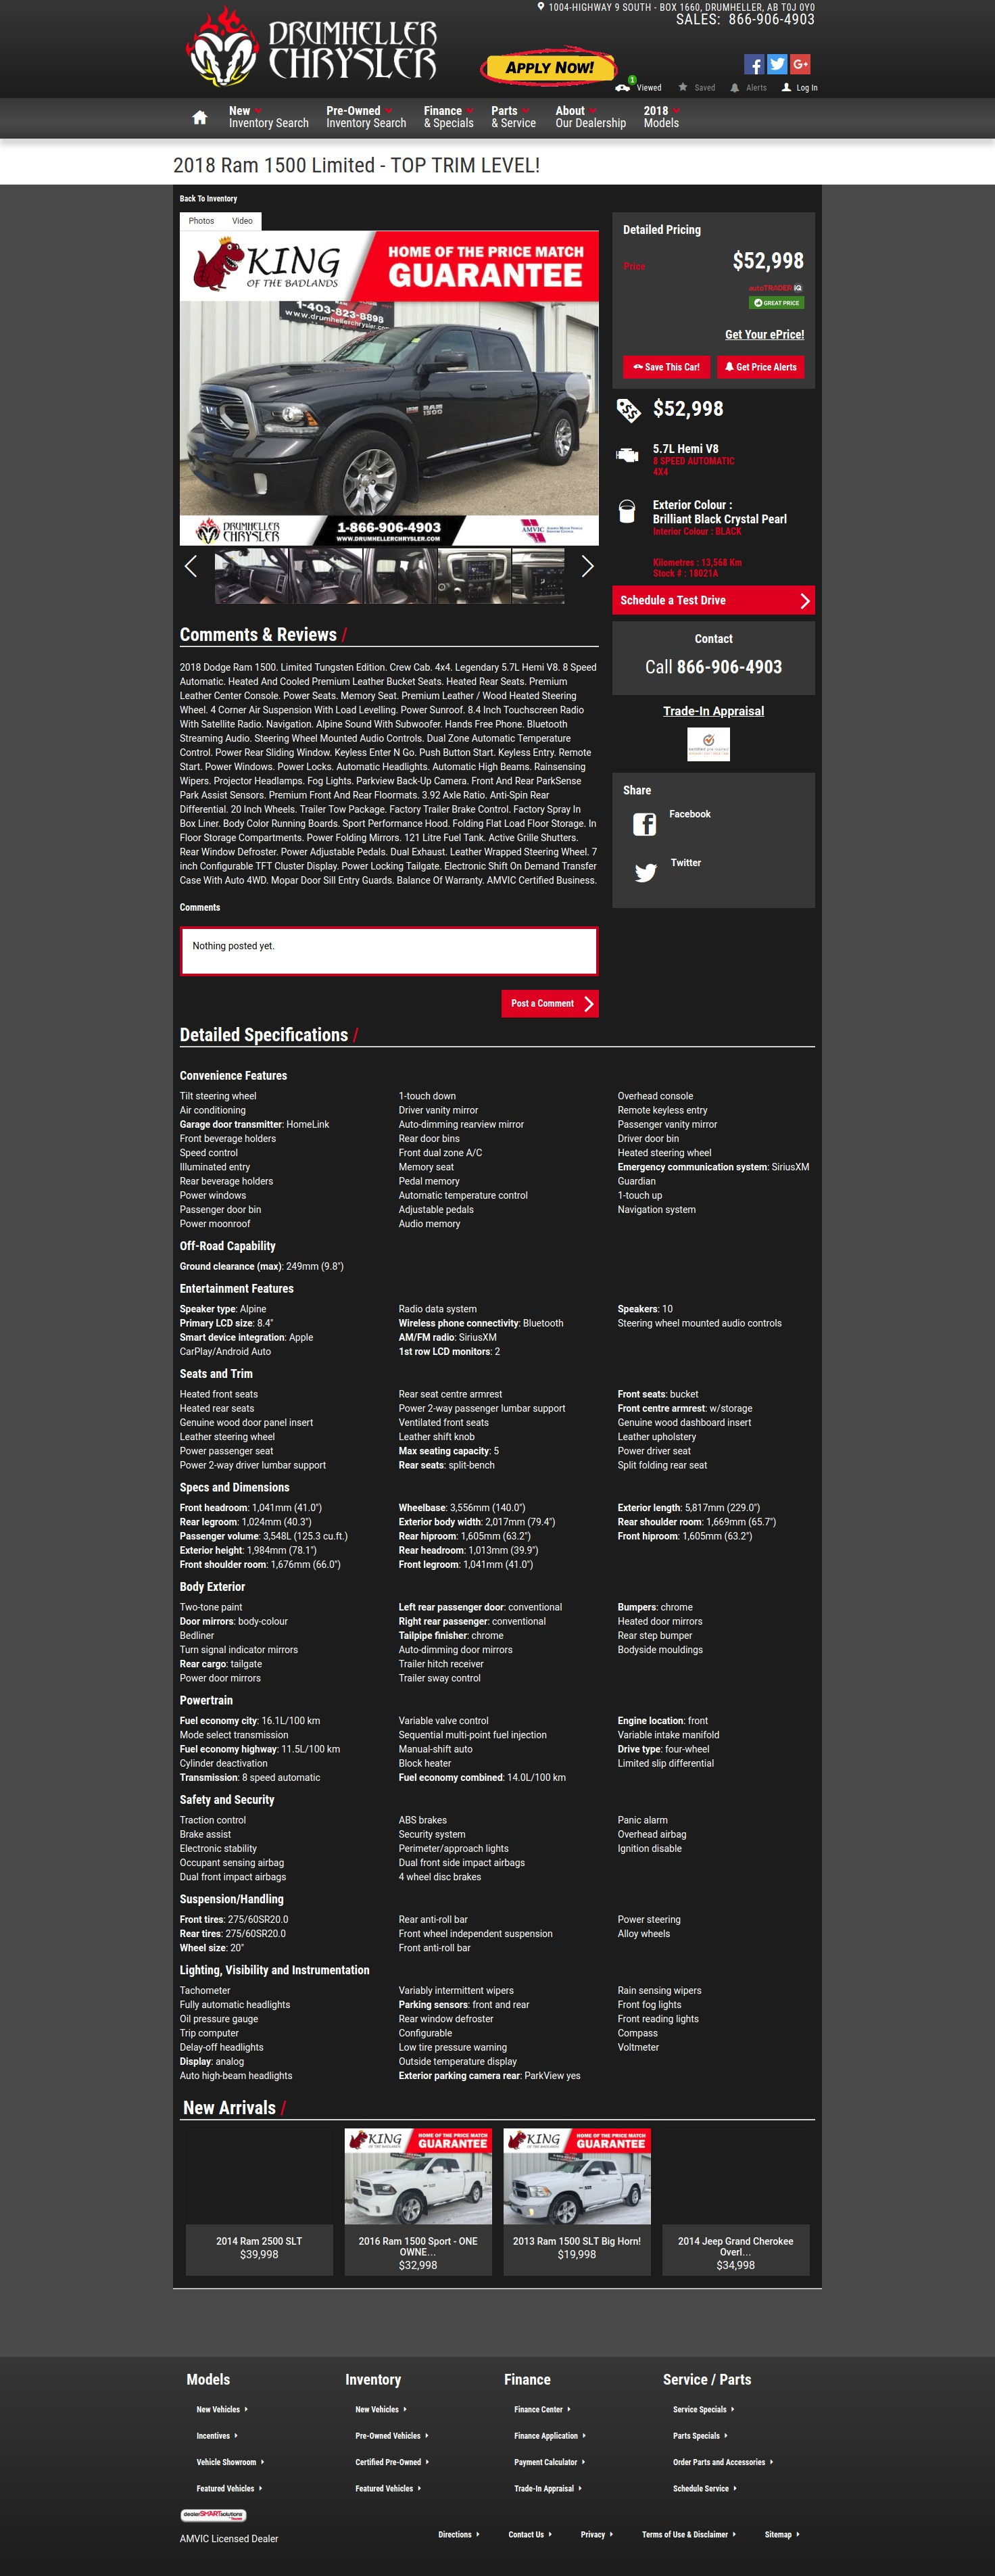car: (581, 555, 594, 580)
